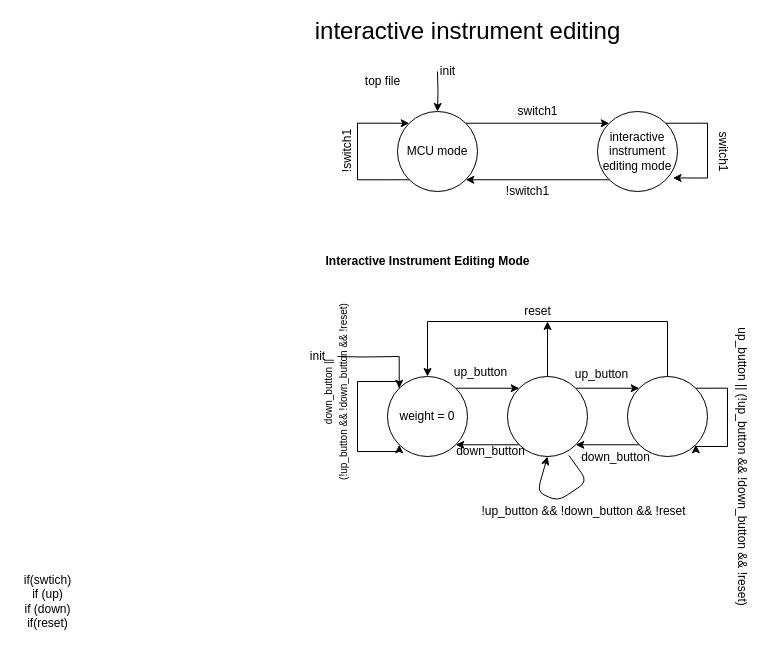
This 769x649 diagram has some shape labels left out. The shapes that lost their labels are listed below. From the top down, each one's centre as x and y in pixels, then its label:
At point 547,416: "weight = 1".
At point 667,416: "weight = 2".
